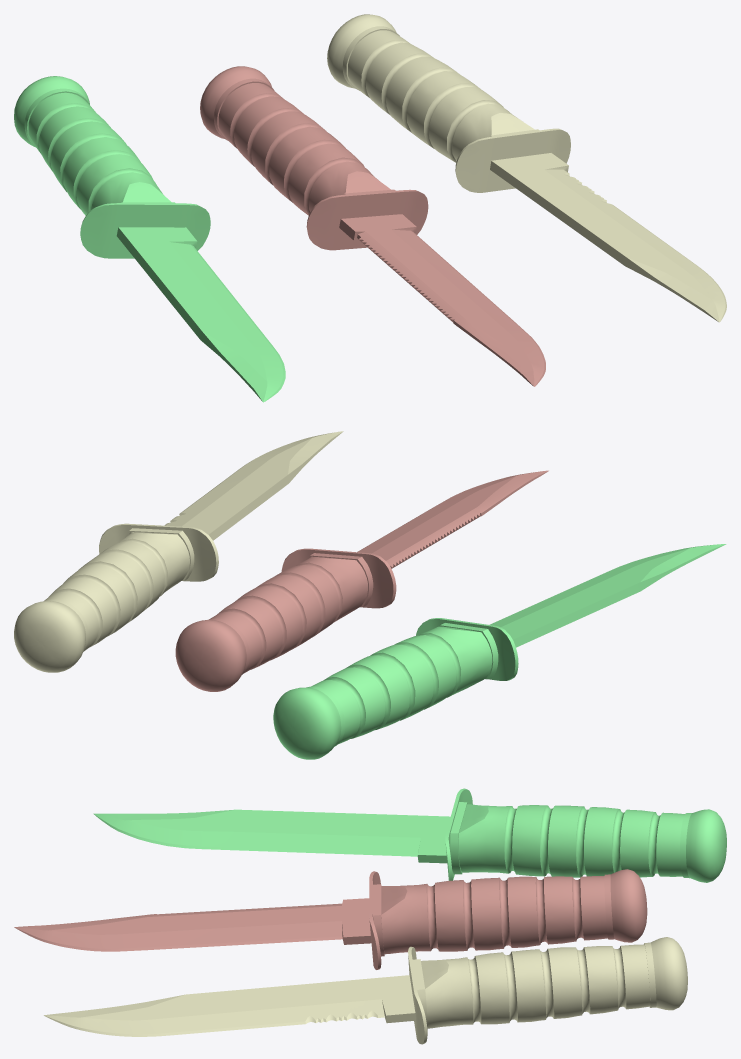
Rendered from Ka_Bar_pack.obj.
3 views of the same model, one above another, from view 1: azimuth 30°, elevation 25°; view 2: azimuth 150°, elevation 25°; view 3: azimuth 270°, elevation 25° (orthographic). The views are drawn at different scales.
Parts seen in each view (by area): view 1: Ka_Bar_Knife_Low, Ka_Bar_Handle_Low, Ka_Bar_Handle_White_Low, Ka_Bar_Knife_White_Low, Ka_Bar_Garda_Low, Ka_Bar_Garda_White_Low, Ka_Bar_Top_Low, Ka_Bar_Top_White_Low; view 2: Ka_Bar_Handle_Low, Ka_Bar_Knife_Low, Ka_Bar_Handle_White_Low, Ka_Bar_Top_Low, Ka_Bar_Knife_White_Low, Ka_Bar_Garda_Low, Ka_Bar_Top_White_Low, Ka_Bar_Garda_White_Low; view 3: Ka_Bar_Handle_Low, Ka_Bar_Knife_Low, Ka_Bar_Handle_White_Low, Ka_Bar_Knife_White_Low, Ka_Bar_Top_Low, Ka_Bar_Top_White_Low, Ka_Bar_Garda_Low, Ka_Bar_Garda_White_Low.
Boxes of the visible parts, left/top/right/bottom form: Ka_Bar_Knife_Low: left=116, top=153, right=726, bottom=402; Ka_Bar_Handle_Low: left=28, top=30, right=534, bottom=215; Ka_Bar_Handle_White_Low: left=218, top=83, right=390, bottom=215; Ka_Bar_Knife_White_Low: left=339, top=214, right=545, bottom=386; Ka_Bar_Garda_Low: left=80, top=128, right=570, bottom=258; Ka_Bar_Garda_White_Low: left=306, top=189, right=428, bottom=250; Ka_Bar_Top_Low: left=14, top=14, right=399, bottom=147; Ka_Bar_Top_White_Low: left=200, top=66, right=274, bottom=140; Ka_Bar_Handle_Low: left=44, top=532, right=492, bottom=743; Ka_Bar_Knife_Low: left=164, top=431, right=726, bottom=647; Ka_Bar_Handle_White_Low: left=209, top=556, right=367, bottom=673; Ka_Bar_Top_Low: left=14, top=599, right=344, bottom=759; Ka_Bar_Knife_White_Low: left=357, top=470, right=548, bottom=568; Ka_Bar_Garda_Low: left=99, top=523, right=518, bottom=680; Ka_Bar_Top_White_Low: left=175, top=618, right=249, bottom=691; Ka_Bar_Garda_White_Low: left=281, top=548, right=396, bottom=608; Ka_Bar_Handle_Low: left=421, top=804, right=684, bottom=1028; Ka_Bar_Knife_Low: left=44, top=809, right=450, bottom=1036; Ka_Bar_Handle_White_Low: left=381, top=876, right=607, bottom=954; Ka_Bar_Knife_White_Low: left=14, top=898, right=371, bottom=951; Ka_Bar_Top_Low: left=644, top=809, right=726, bottom=1010; Ka_Bar_Top_White_Low: left=604, top=869, right=647, bottom=942; Ka_Bar_Garda_Low: left=408, top=788, right=472, bottom=1044; Ka_Bar_Garda_White_Low: left=369, top=871, right=384, bottom=969.
Bounding box in the file's own units: 7.69 × 1.29 × 10.47.
